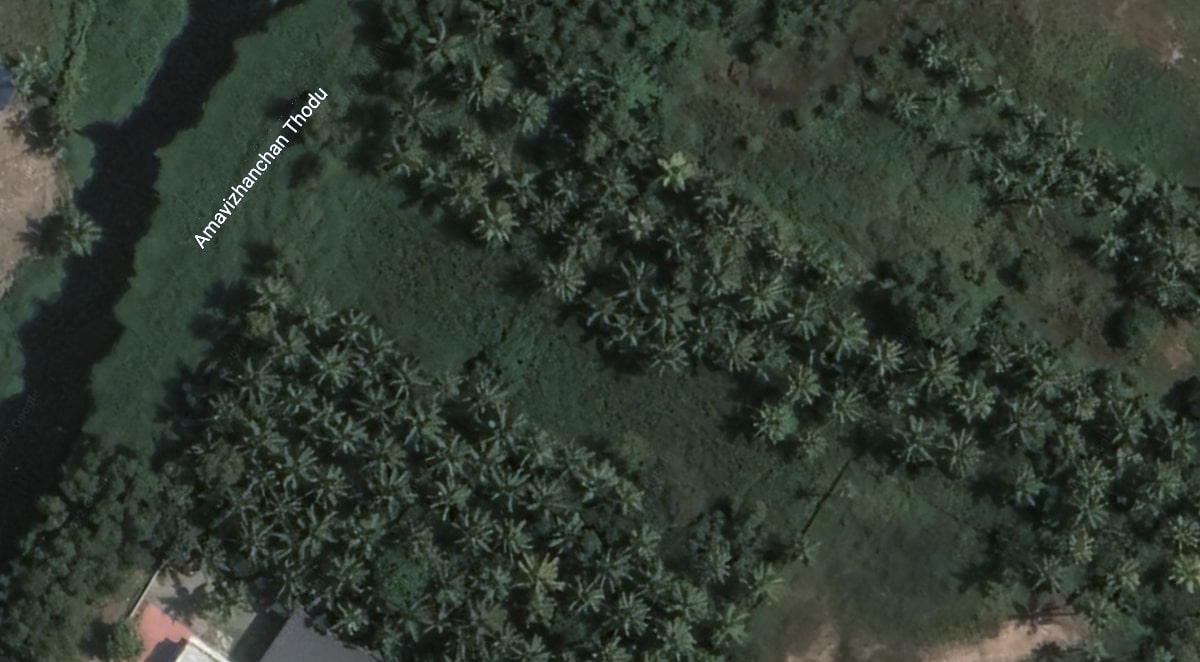coconut: (907, 346, 959, 398), (269, 434, 318, 489), (357, 451, 416, 496), (889, 415, 940, 467), (482, 416, 540, 460), (303, 454, 351, 506), (602, 591, 654, 638), (232, 506, 277, 559), (538, 259, 590, 303), (1005, 399, 1053, 446), (716, 323, 762, 372), (262, 331, 312, 376), (481, 469, 533, 512), (297, 506, 343, 554), (471, 201, 516, 250), (747, 394, 793, 441), (467, 378, 518, 420), (325, 547, 367, 598), (944, 427, 984, 480), (951, 375, 998, 419), (430, 436, 477, 480), (777, 361, 823, 405), (432, 478, 476, 524), (558, 221, 605, 264), (350, 385, 398, 427), (576, 464, 622, 507), (515, 555, 565, 594), (993, 467, 1037, 511), (710, 603, 754, 647), (237, 414, 281, 458), (1027, 358, 1073, 400), (439, 168, 480, 215), (738, 562, 785, 603), (613, 263, 657, 306), (668, 581, 711, 625), (1099, 558, 1151, 594), (608, 121, 653, 162), (1063, 491, 1110, 530), (473, 143, 520, 182), (824, 315, 866, 358), (595, 160, 637, 203), (238, 363, 280, 406), (388, 594, 428, 639), (509, 94, 555, 133), (783, 296, 825, 338), (528, 480, 570, 522), (327, 598, 367, 642), (433, 573, 468, 623), (863, 335, 905, 376), (783, 524, 824, 566), (602, 310, 645, 350), (316, 351, 359, 391), (831, 385, 872, 426), (744, 275, 786, 315), (565, 578, 607, 618), (915, 38, 959, 75), (1080, 595, 1124, 632), (398, 99, 442, 136), (1157, 237, 1197, 277), (725, 208, 765, 248), (365, 429, 407, 467), (472, 568, 515, 605), (592, 545, 636, 581), (498, 518, 537, 558), (1114, 168, 1151, 210), (479, 621, 521, 658), (259, 486, 306, 519), (214, 578, 250, 621), (1033, 153, 1068, 197), (524, 435, 563, 474), (654, 336, 692, 376), (505, 172, 545, 210), (654, 618, 692, 658), (1055, 529, 1097, 565), (210, 394, 242, 441), (1075, 459, 1114, 497), (406, 406, 446, 443), (1103, 408, 1146, 442), (1022, 180, 1055, 224), (550, 516, 588, 554), (1145, 458, 1184, 495), (695, 545, 734, 582), (633, 565, 670, 604), (545, 172, 586, 207), (331, 414, 366, 455), (1028, 558, 1071, 590), (693, 188, 736, 220), (1163, 514, 1200, 551), (697, 263, 736, 298), (458, 515, 493, 554), (657, 224, 701, 255), (561, 441, 595, 481), (1165, 420, 1200, 458), (281, 384, 319, 419), (359, 329, 398, 363), (384, 141, 419, 178), (1123, 214, 1161, 248), (1169, 550, 1200, 591), (982, 345, 1024, 375), (1047, 116, 1081, 153), (1008, 101, 1040, 140), (535, 205, 575, 236), (388, 360, 423, 395), (880, 377, 914, 413), (1101, 229, 1131, 269), (889, 89, 923, 124), (652, 298, 688, 331), (615, 485, 651, 518), (793, 430, 830, 462), (950, 54, 988, 85), (1068, 168, 1098, 207), (307, 307, 342, 340), (618, 206, 655, 237), (336, 310, 375, 339), (981, 80, 1014, 114), (1055, 425, 1088, 458), (1131, 491, 1167, 521), (992, 159, 1018, 197), (514, 636, 551, 662), (357, 356, 386, 388), (632, 533, 667, 559), (1088, 146, 1112, 180), (316, 399, 342, 430), (961, 137, 987, 167)
